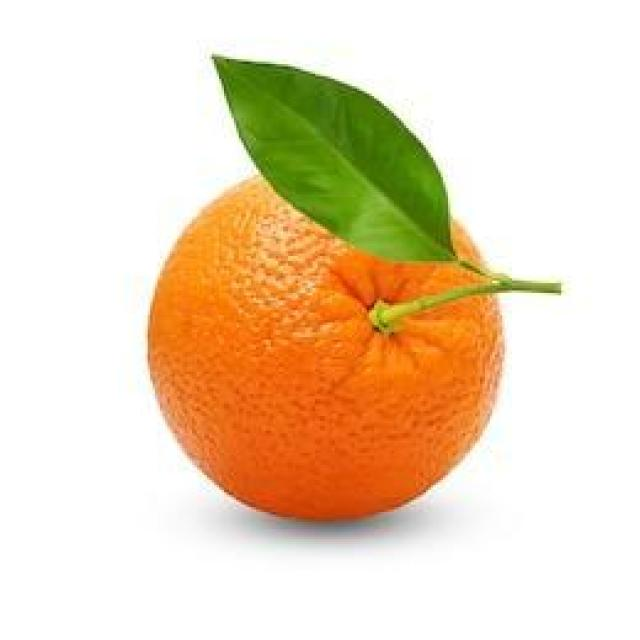orange: (142, 168, 509, 520)
